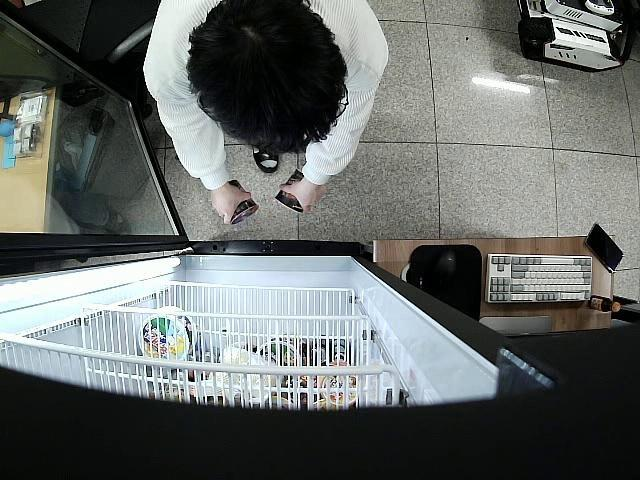08_buldak_S: (227, 178, 260, 226), (276, 165, 307, 215)
